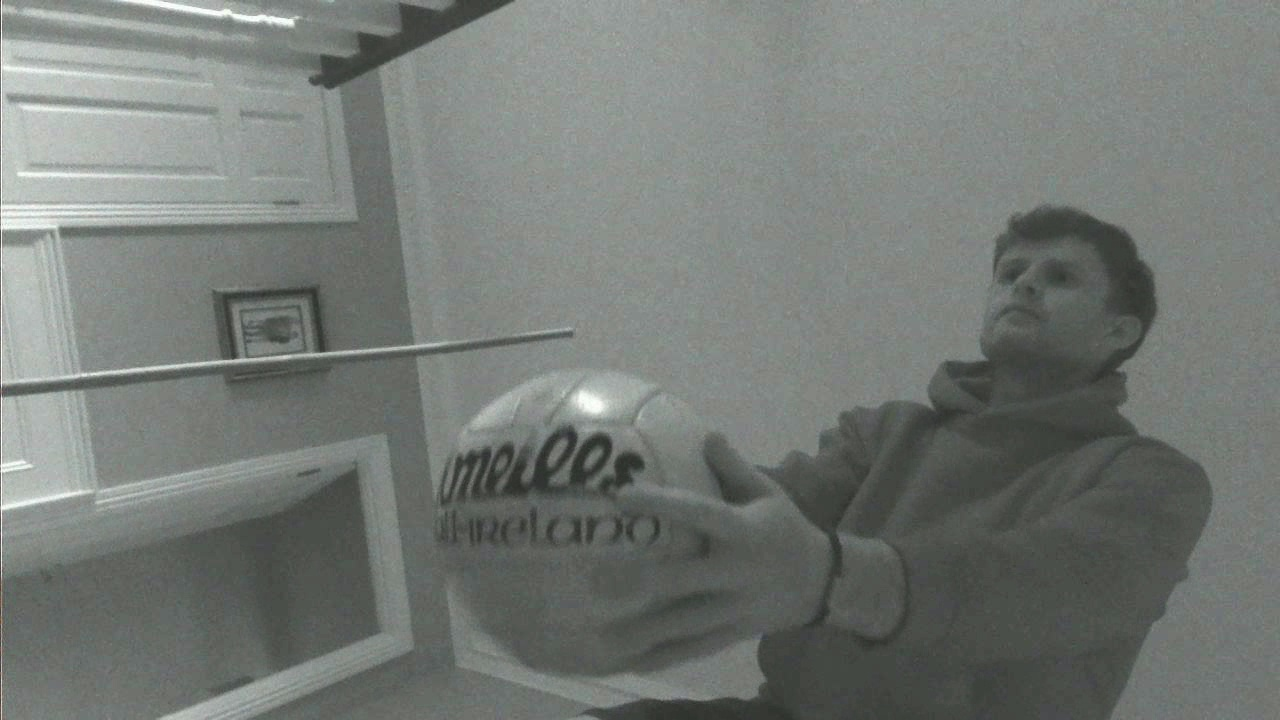Football-Spotter: (436, 370, 721, 670)
